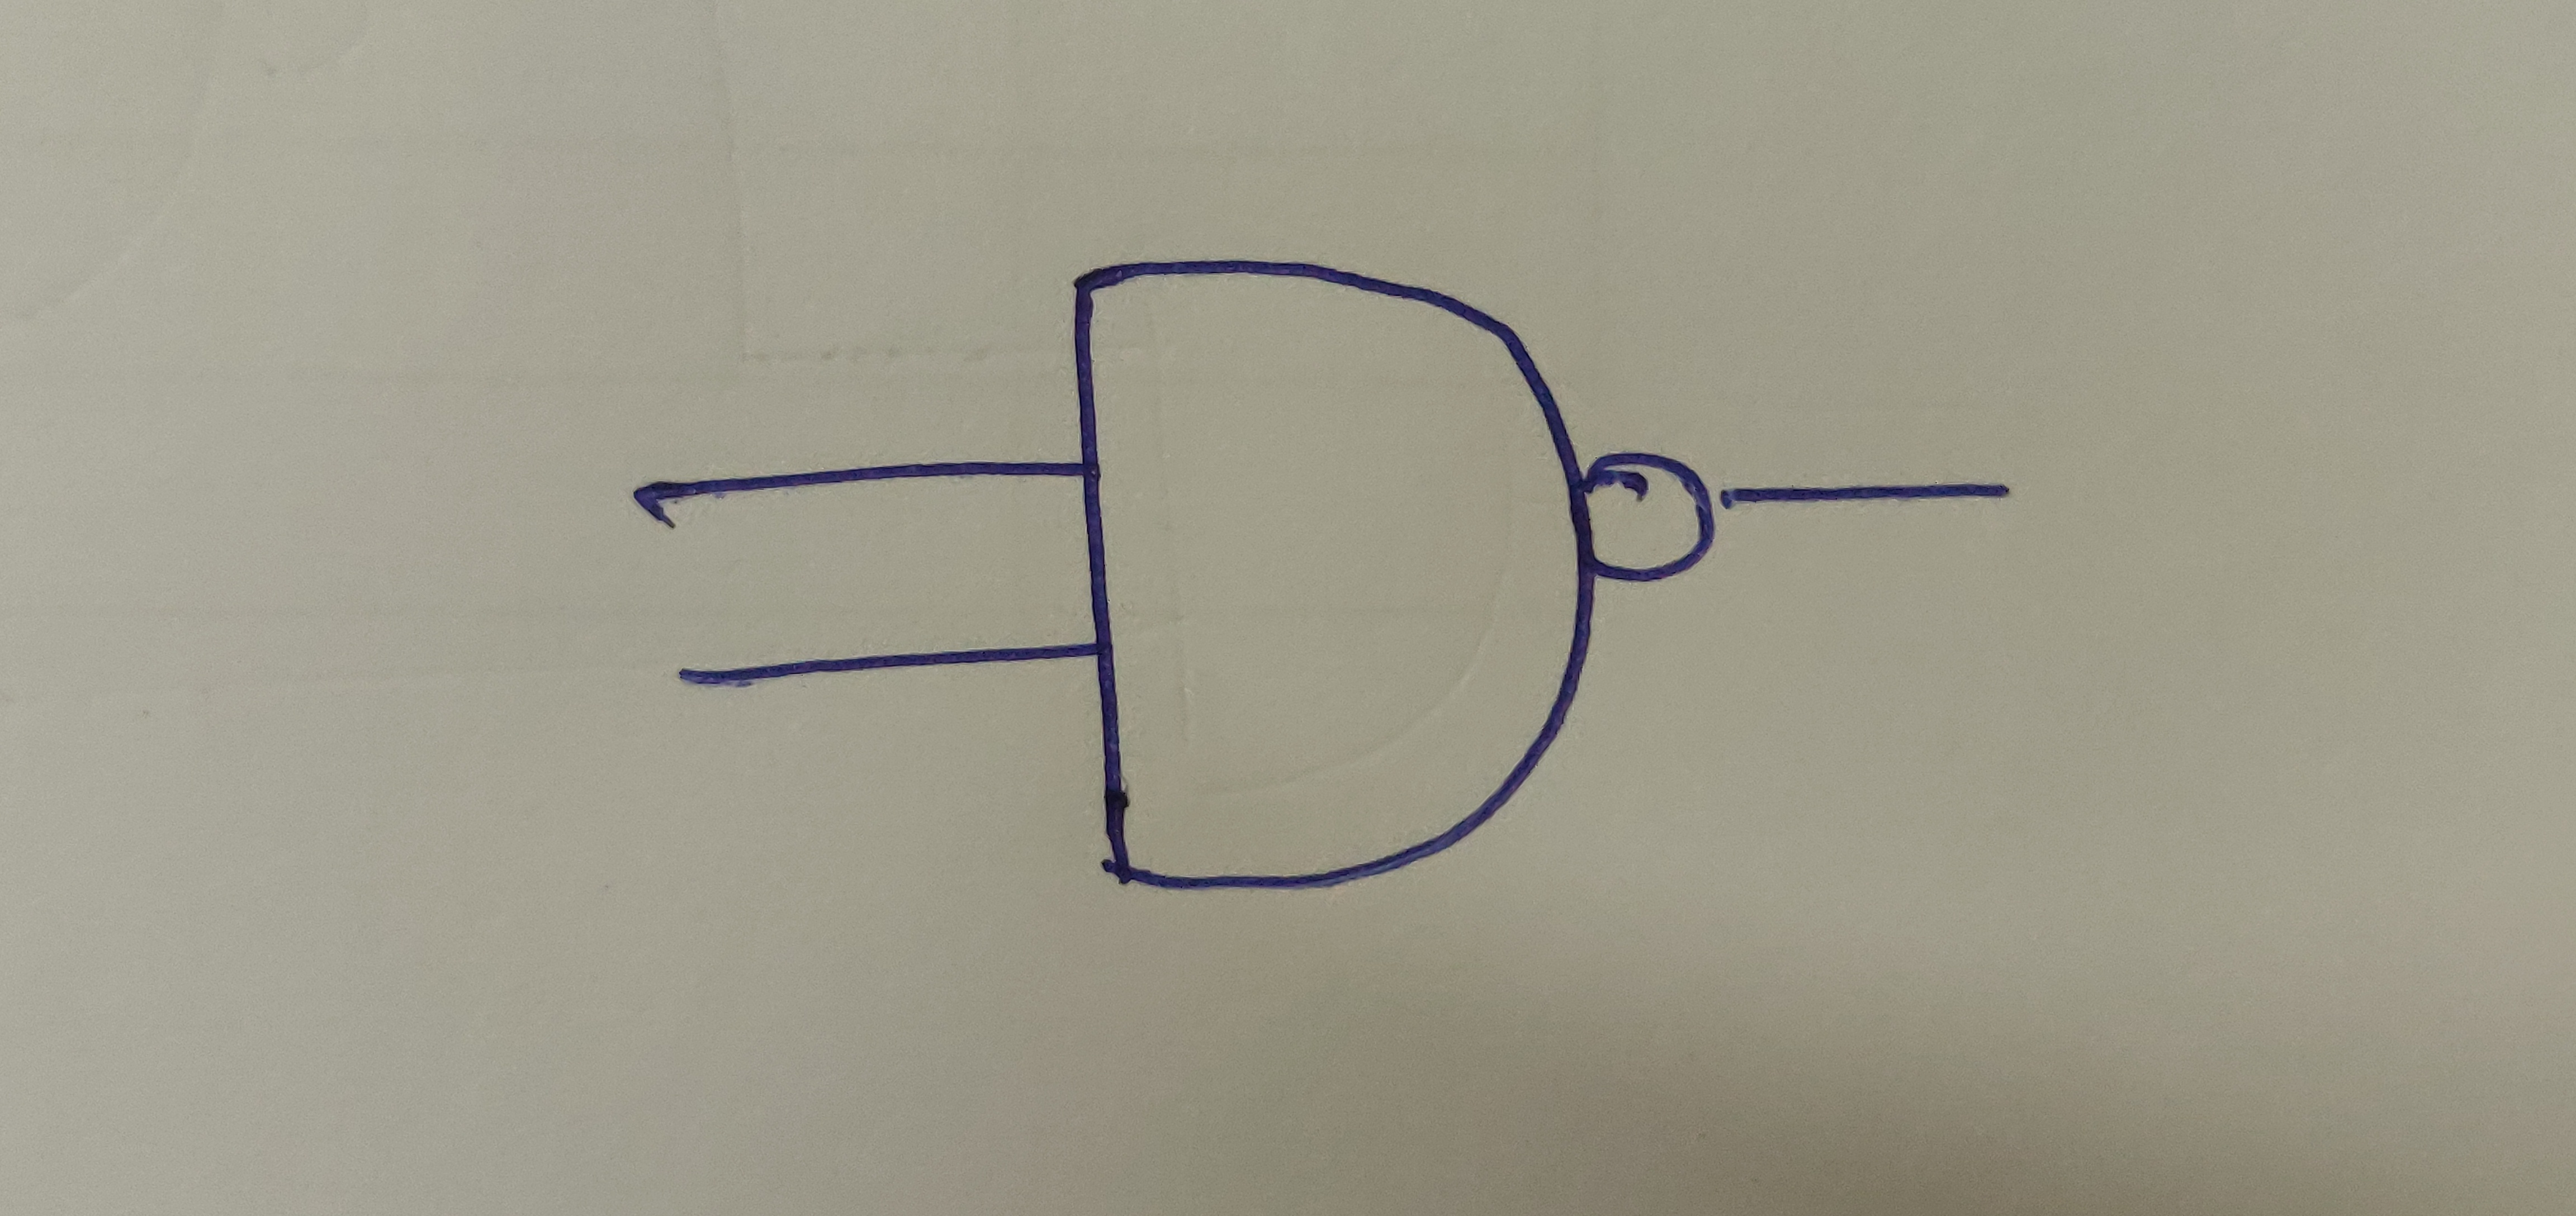and: (1063, 261, 1590, 892)
not: (1566, 450, 1718, 588)
